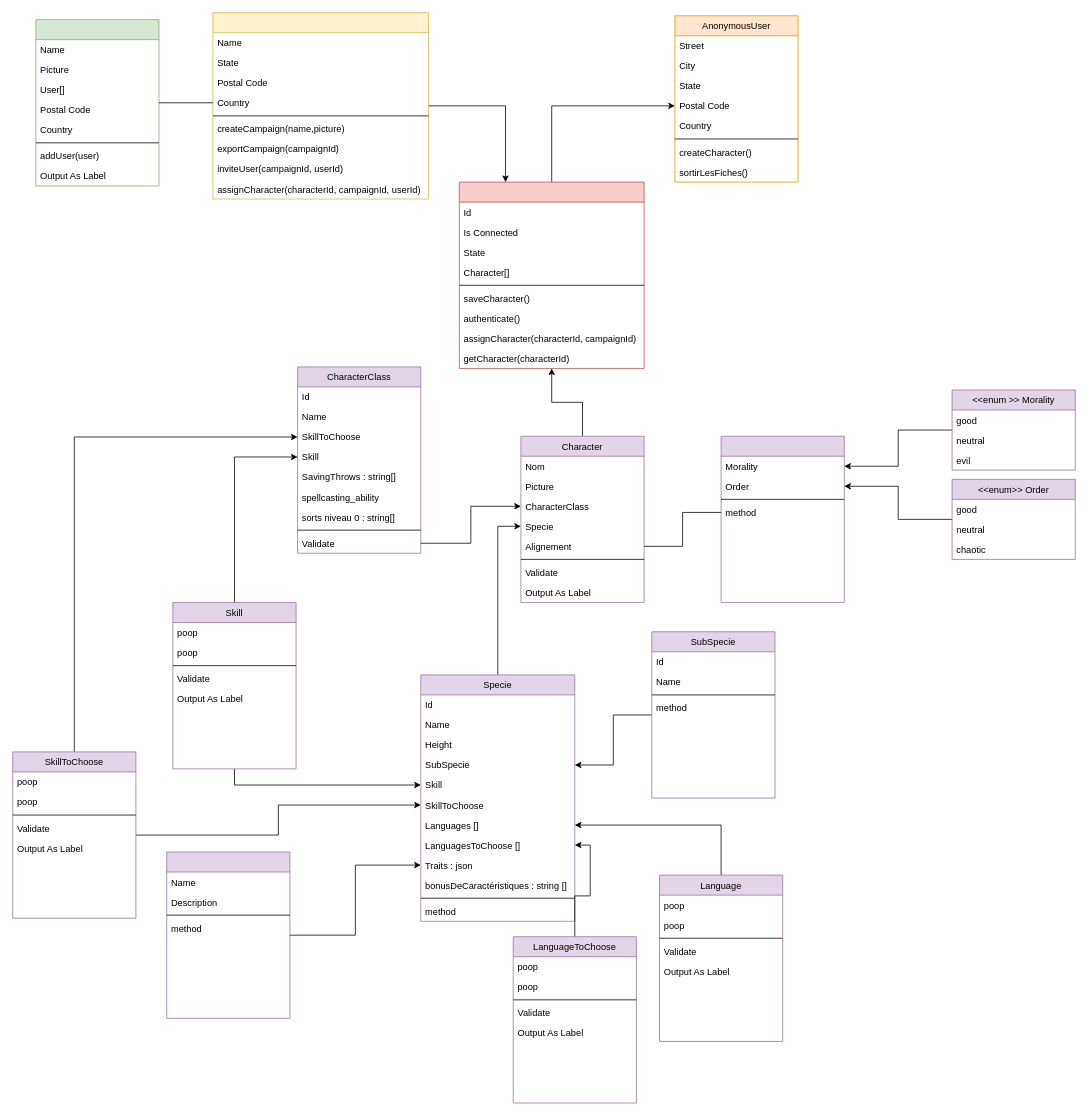
Image size: 1088x1116. Some labels were removed from this diagram. Here are the shapes that lost their labels. From the top down, the box of each, then its label:
(35, 19, 159, 186): Campaign
(212, 12, 429, 199): DungeonMaster
(459, 181, 644, 368): User
(720, 435, 844, 603): Alignment
(166, 851, 290, 1018): Traits
